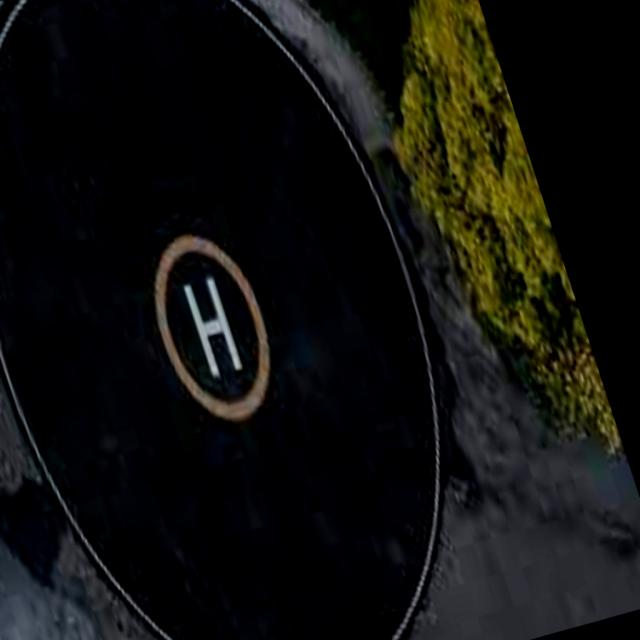helipad: (151, 230, 275, 420)
